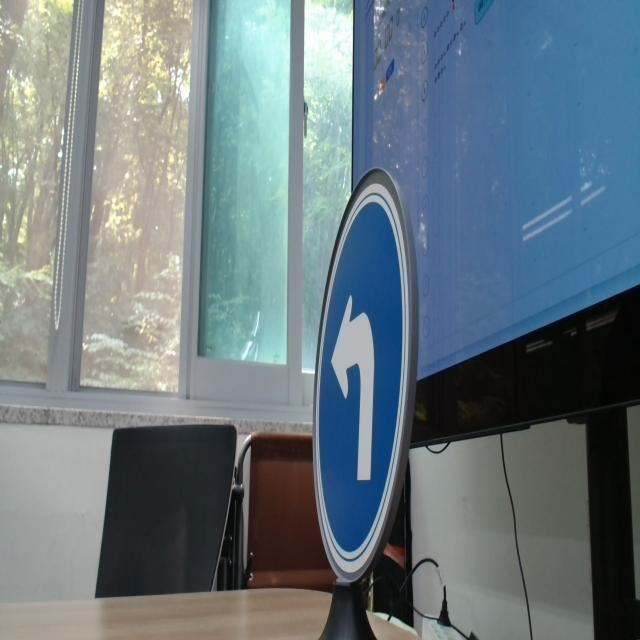left_direction: (304, 163, 421, 586)
